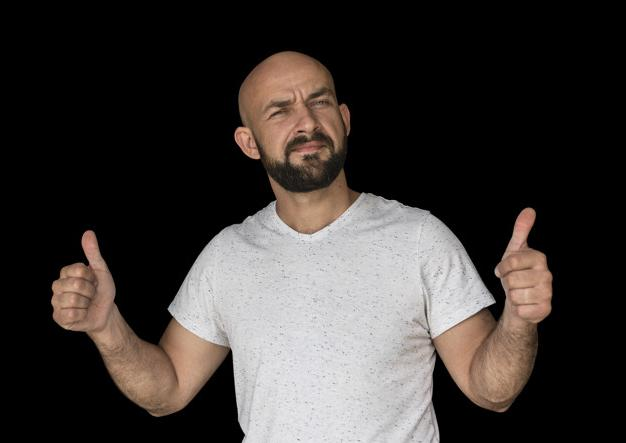thumbsup: (494, 207, 553, 321), (50, 229, 103, 325)
